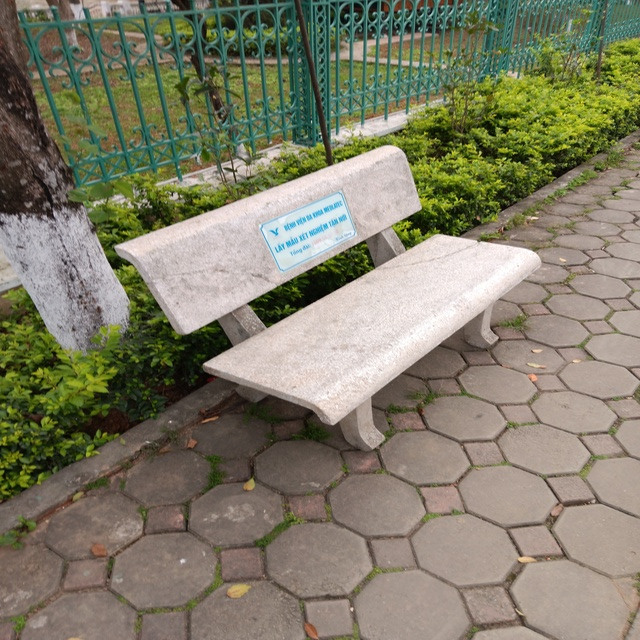gheda: (110, 144, 555, 466)
